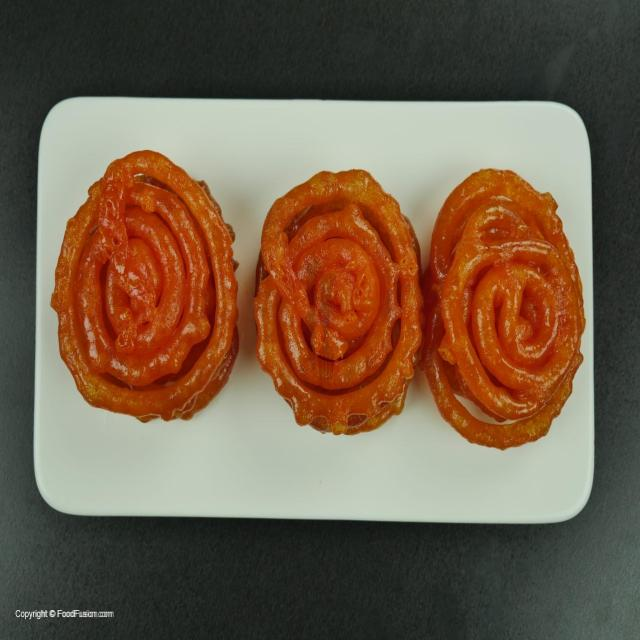jalebi: (253, 151, 436, 448), (76, 136, 236, 433), (444, 172, 586, 458)
